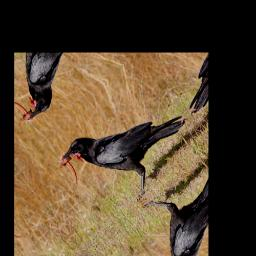Crow: (48, 69, 203, 232)
